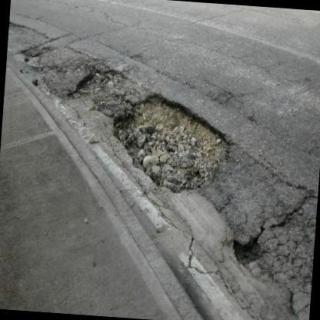pothole: (114, 94, 229, 193), (69, 68, 138, 120), (234, 232, 264, 266)
